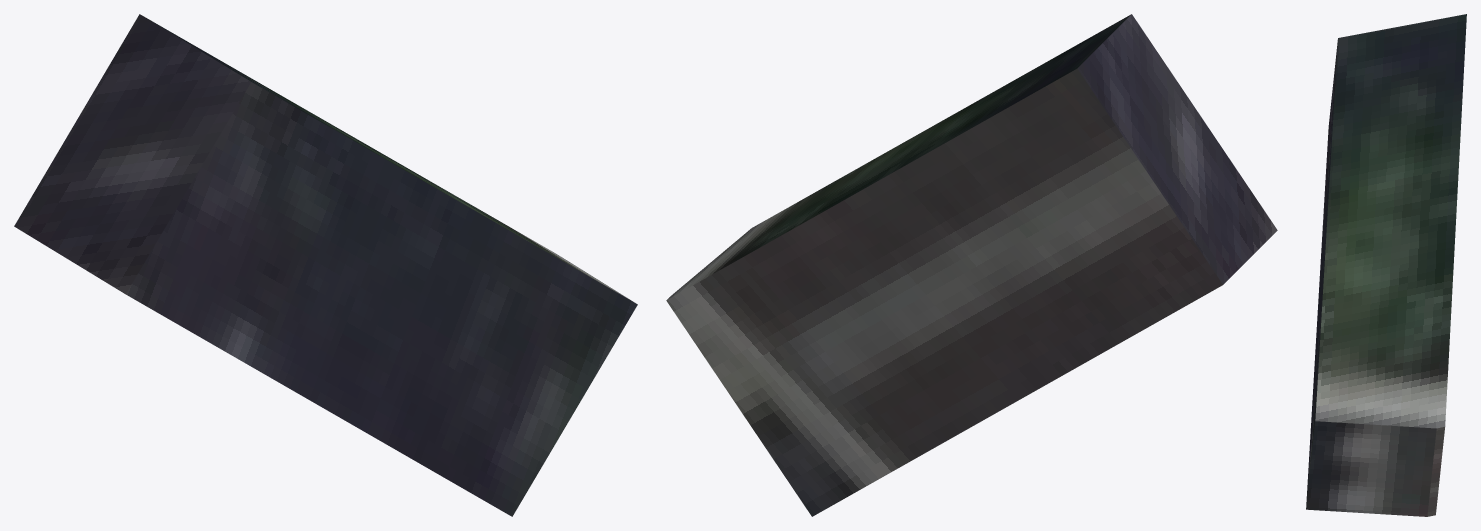
The picture shows the model from 3 angles, left to right: view 1: azimuth 30°, elevation 25°; view 2: azimuth 150°, elevation 25°; view 3: azimuth 270°, elevation 25°; orthographic projection. The views are drawn at different scales.
Visible parts, largest first — view 1: BAG_0599100010042503 (×2); view 2: BAG_0599100010042503 (×2); view 3: BAG_0599100010042503 (×2).
Part boxes in pixels (bbox=[...]): BAG_0599100010042503 (×2): bbox=[14, 14, 637, 516]; BAG_0599100010042503 (×2): bbox=[666, 14, 1277, 516]; BAG_0599100010042503 (×2): bbox=[1306, 14, 1466, 516].
Size of the model in its own units: 6.19 by 5.57 by 2.04.
3 materials, 2 textured.
